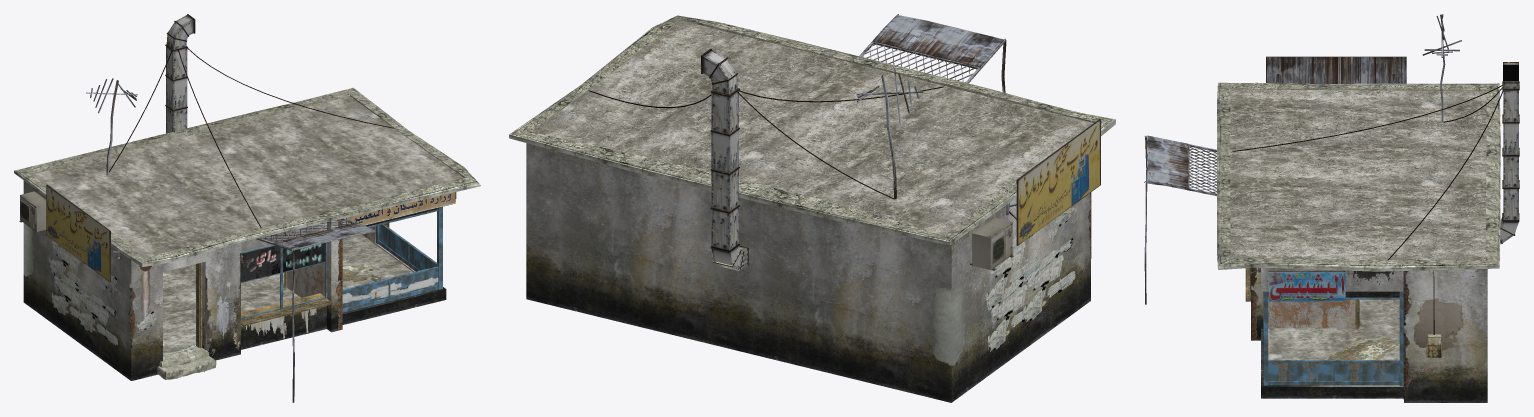
Rendered from bld-a.obj.
The picture shows the model from 3 angles, left to right: view 1: azimuth 30°, elevation 25°; view 2: azimuth 150°, elevation 25°; view 3: azimuth 270°, elevation 25°; orthographic projection. The views are drawn at different scales.
Visible parts, largest first — view 1: bld_a; view 2: bld_a; view 3: bld_a.
Boxes of the visible parts, box(x1,y1,x2,y2) form: bld_a: box(14, 14, 480, 402); bld_a: box(509, 14, 1115, 402); bld_a: box(1144, 14, 1519, 402).
Size of the model in its own units: 901 by 604 by 751.
